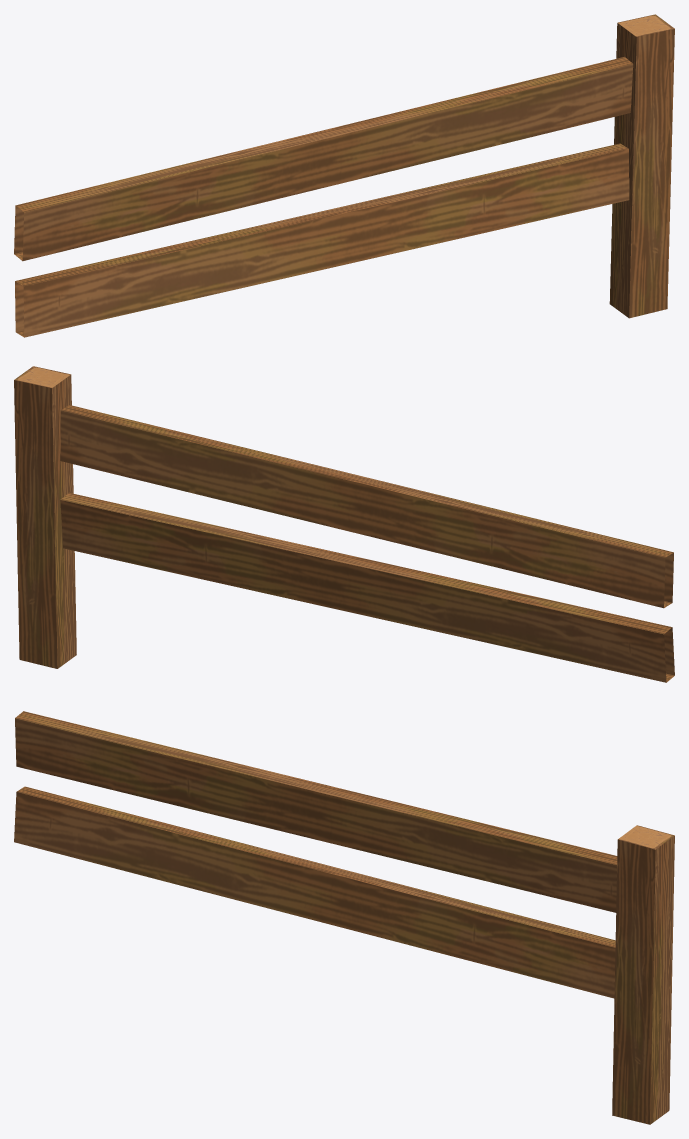
File: prop_wooden_fence_extension2.gltf
The picture shows the model from 3 angles, top to bottom: view 1: azimuth 30°, elevation 25°; view 2: azimuth 150°, elevation 25°; view 3: azimuth 330°, elevation 25°; orthographic projection.
Visible parts, largest first — view 1: Prop_WoodenFence_Extension2; view 2: Prop_WoodenFence_Extension2; view 3: Prop_WoodenFence_Extension2.
Boxes of the visible parts, box(x1,y1,x2,y2) form: Prop_WoodenFence_Extension2: box(14, 14, 674, 337); Prop_WoodenFence_Extension2: box(14, 366, 674, 682); Prop_WoodenFence_Extension2: box(14, 711, 674, 1124).
Bounding box in the file's own units: 2.03 × 0.8381 × 0.1104.
1 material, 1 textured.
